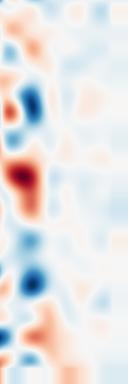filament: (6, 153, 52, 228)
